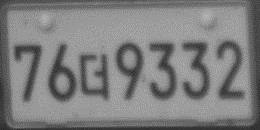2: (215, 40, 246, 102)
3: (144, 40, 178, 101), (180, 40, 211, 100)
6: (47, 42, 77, 101)
7: (12, 43, 44, 102)
9: (113, 42, 145, 100)
더: (77, 51, 110, 101)
